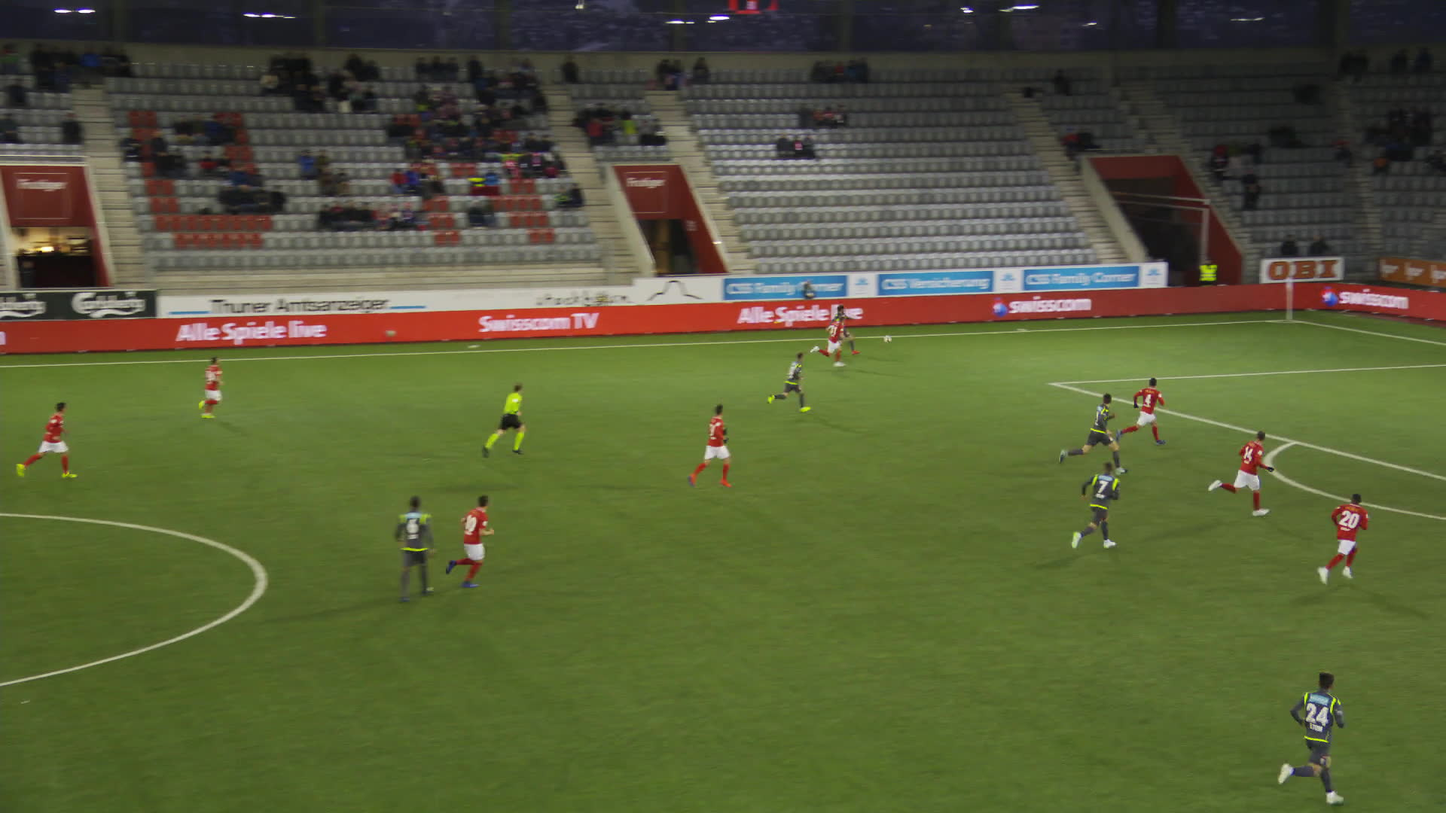ball: (885, 336, 893, 343)
player: (1280, 671, 1348, 808), (1064, 393, 1128, 476), (1213, 428, 1273, 515), (1322, 491, 1371, 589), (21, 400, 78, 482), (404, 494, 445, 601), (452, 492, 497, 587), (1078, 461, 1123, 550), (1118, 376, 1167, 449), (696, 405, 737, 489), (195, 354, 234, 416), (775, 350, 810, 416), (821, 314, 850, 367), (837, 304, 859, 355)
referee: (484, 382, 531, 460)
